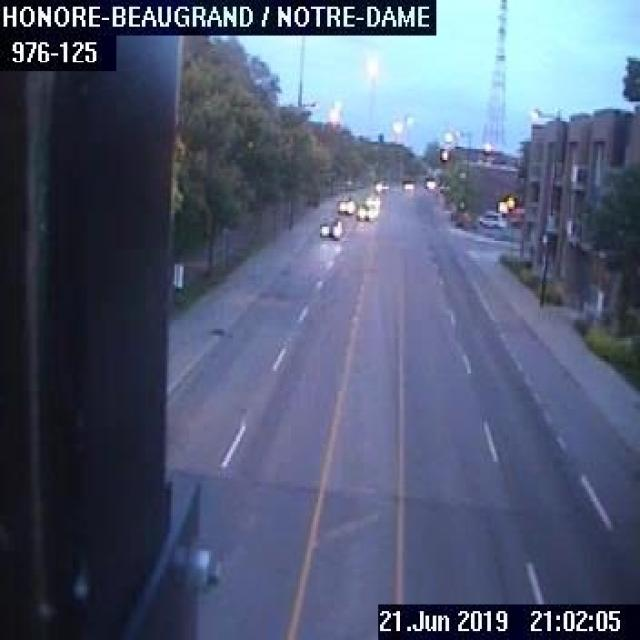vehicle: (316, 215, 344, 237), (478, 208, 504, 226), (335, 195, 354, 212), (355, 203, 374, 219), (401, 177, 414, 191), (423, 178, 436, 188)
